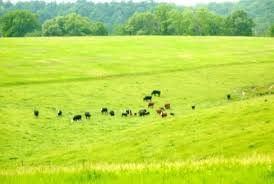sheep: (137, 107, 152, 119), (80, 109, 92, 120), (150, 87, 163, 97), (70, 112, 81, 121), (99, 106, 108, 116), (143, 94, 153, 103), (108, 107, 116, 118), (120, 110, 129, 119), (32, 110, 41, 118), (55, 108, 62, 118), (147, 101, 154, 110), (158, 109, 165, 117), (226, 92, 233, 100), (190, 103, 195, 111), (163, 103, 170, 108)
